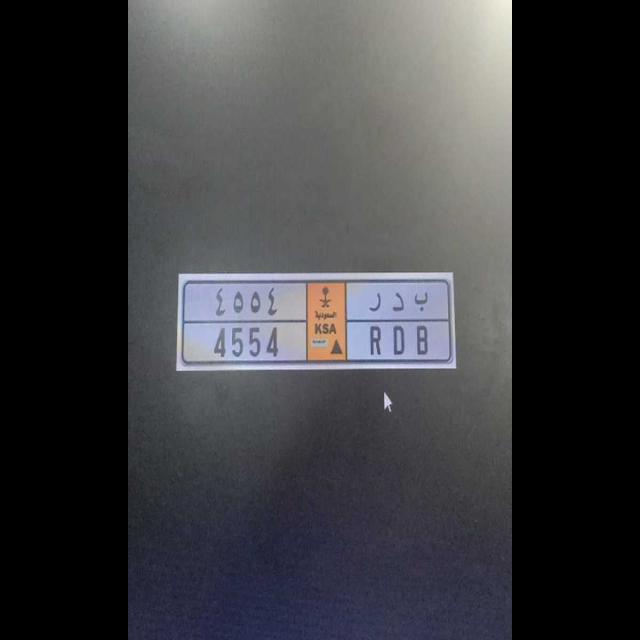license_plate: (180, 323, 454, 365)
